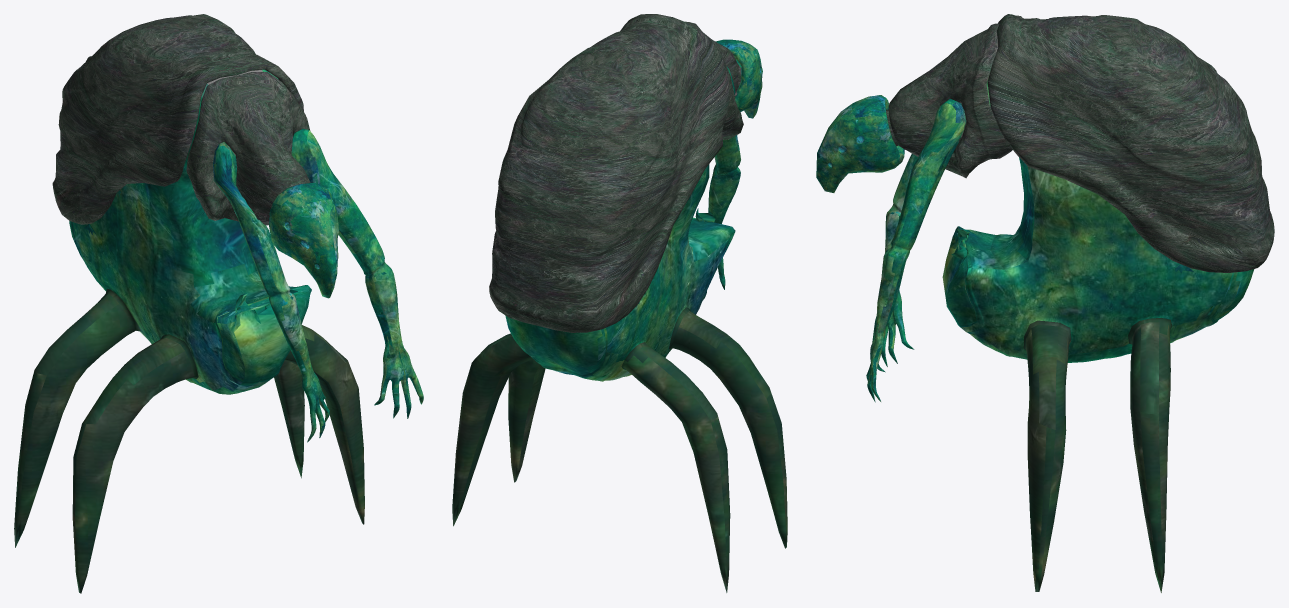
The model's file is Aranar.0015.obj.
3 views of the same model, side by side, from view 1: azimuth 30°, elevation 25°; view 2: azimuth 150°, elevation 25°; view 3: azimuth 270°, elevation 25° (orthographic). The views are drawn at different scales.
Bounding box in the file's own units: 2.28 × 3.86 × 3.2.
Materials: 5 (4 with a texture image).
